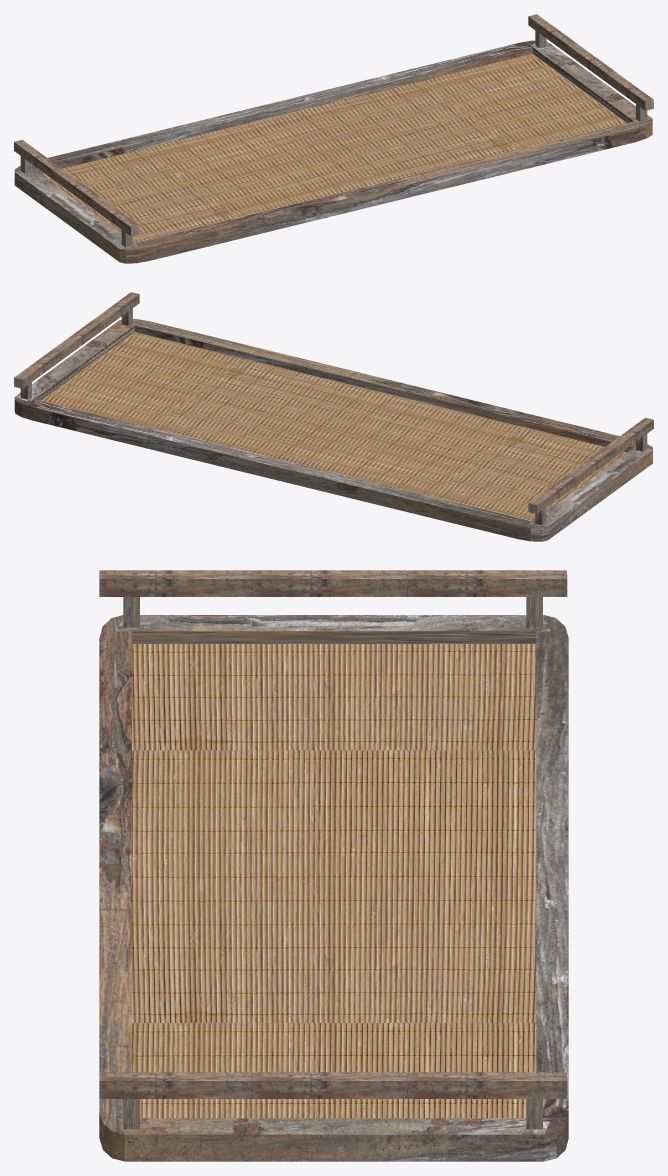
File: blendergltfLaoZhi.gltf
3 views of the same model, one above another, from view 1: azimuth 30°, elevation 25°; view 2: azimuth 150°, elevation 25°; view 3: azimuth 270°, elevation 25° (orthographic). The views are drawn at different scales.
Visible parts, largest first — view 1: 平面, 立方体.002, 立方体.008, 立方体.004; view 2: 平面, 立方体.002, 立方体.008, 立方体.004; view 3: 平面, 立方体.002, 立方体.004, 立方体.008.
Part boxes in pixels (<box>): 平面: <box>40,54,626,243</box>; 立方体.002: <box>14,40,652,263</box>; 立方体.008: <box>528,14,653,110</box>; 立方体.004: <box>14,139,139,236</box>; 平面: <box>40,332,627,521</box>; 立方体.002: <box>14,319,652,541</box>; 立方体.008: <box>14,292,139,388</box>; 立方体.004: <box>528,417,653,514</box>; 平面: <box>131,644,536,1118</box>; 立方体.002: <box>99,615,568,1161</box>; 立方体.004: <box>99,570,567,596</box>; 立方体.008: <box>99,1072,567,1098</box>.
Size of the model in its own units: 1.63 by 0.1113 by 0.622.
3 materials, 3 textured.
